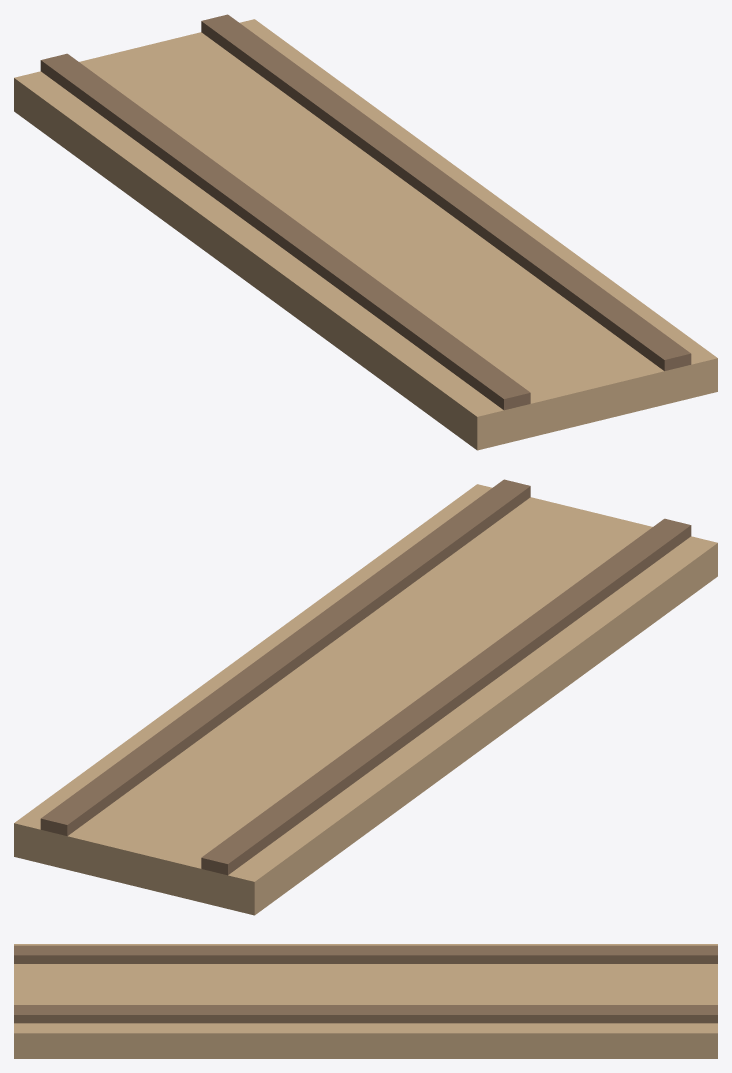
Rendered from feudal-japan-castle-town-stepping-bridge-plank-cc612623__26532.glb.
The picture shows the model from 3 angles, top to bottom: view 1: azimuth 30°, elevation 25°; view 2: azimuth 150°, elevation 25°; view 3: azimuth 270°, elevation 25°; orthographic projection. The views are drawn at different scales.
Parts seen in each view (by area): view 1: stepping-bridge-plank; view 2: stepping-bridge-plank; view 3: stepping-bridge-plank.
Part boxes in pixels (x1,y1,x2,y2): stepping-bridge-plank: (14,14,717,450); stepping-bridge-plank: (14,479,717,915); stepping-bridge-plank: (14,944,717,1058).
Bounding box in the file's own units: 0.8999 × 0.16 × 3.
